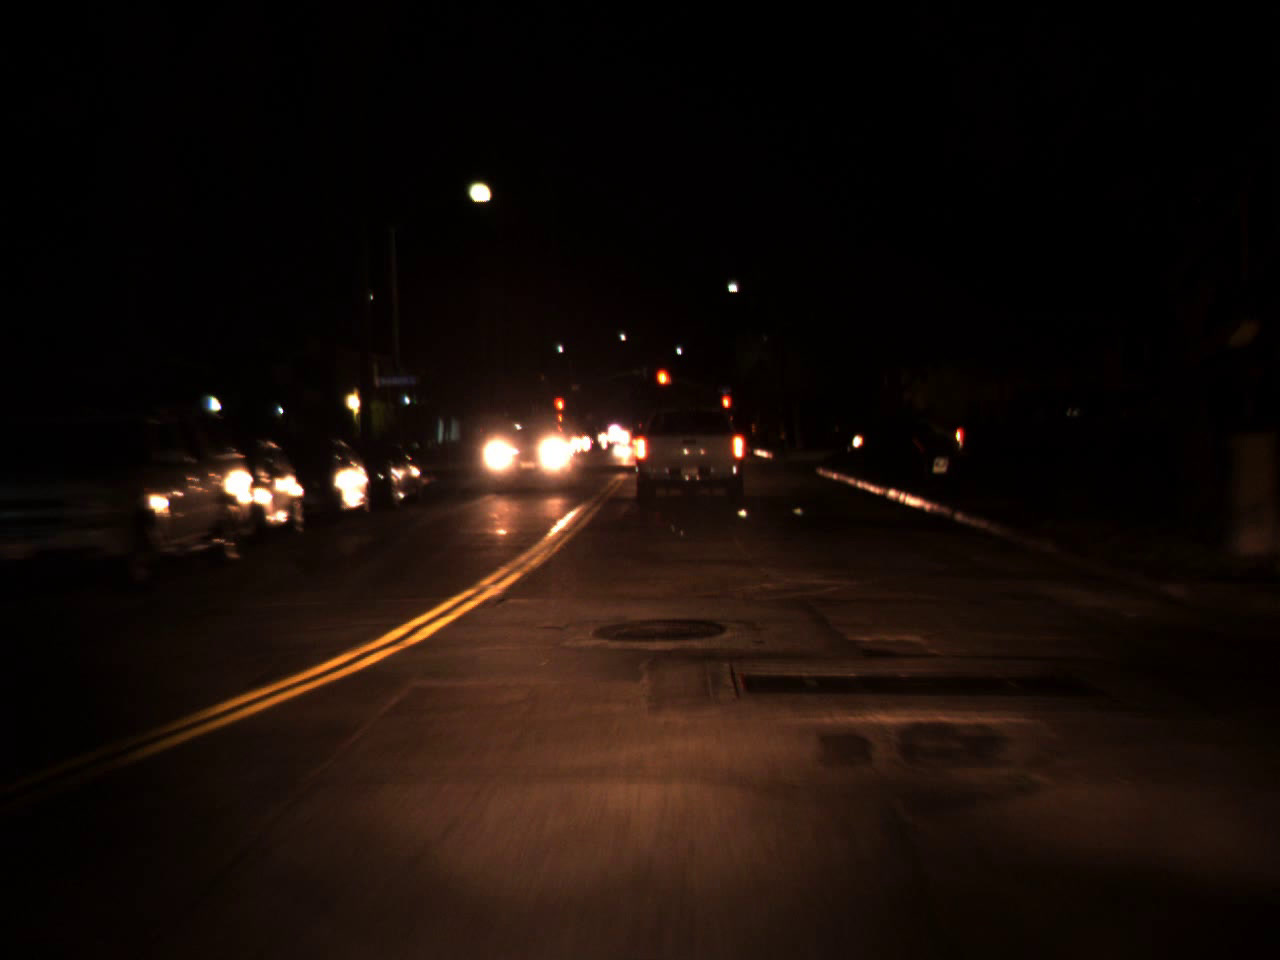stop: (653, 366, 672, 403), (721, 393, 731, 425), (554, 397, 564, 424)
